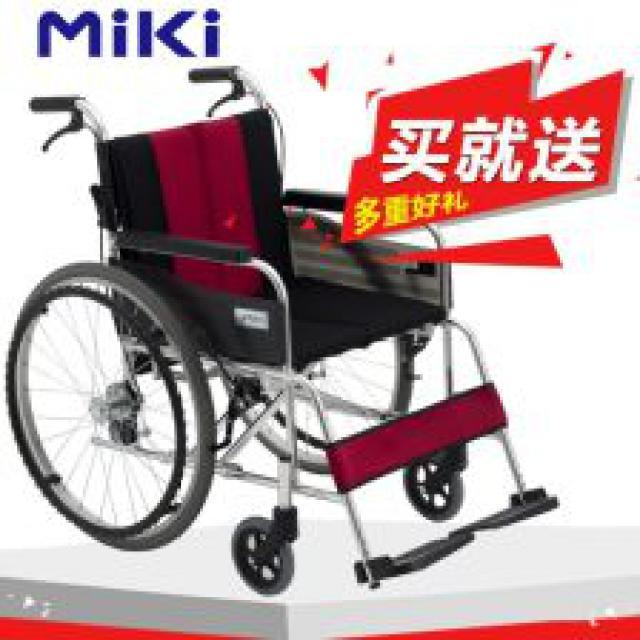wheelchair: (14, 60, 566, 580)
